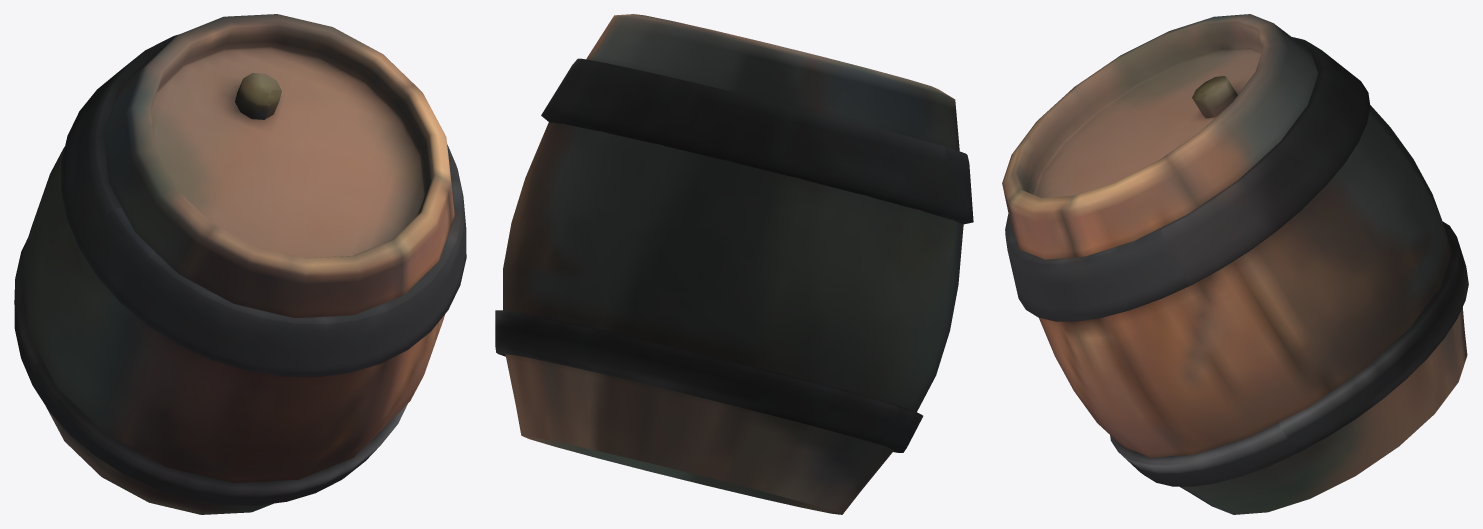
File: Beach_Barrel.glb
The picture shows the model from 3 angles, left to right: view 1: azimuth 30°, elevation 25°; view 2: azimuth 150°, elevation 25°; view 3: azimuth 270°, elevation 25°; orthographic projection. The views are drawn at different scales.
Visible parts, largest first — view 1: Object_2.008; view 2: Object_2.008; view 3: Object_2.008.
Part boxes in pixels (left/top/right/bottom): Object_2.008: left=14, top=14, right=466, bottom=514; Object_2.008: left=495, top=14, right=973, bottom=514; Object_2.008: left=1002, top=14, right=1468, bottom=514.
Size of the model in its own units: 6.84 by 8.29 by 7.81.
1 material, 1 textured.
